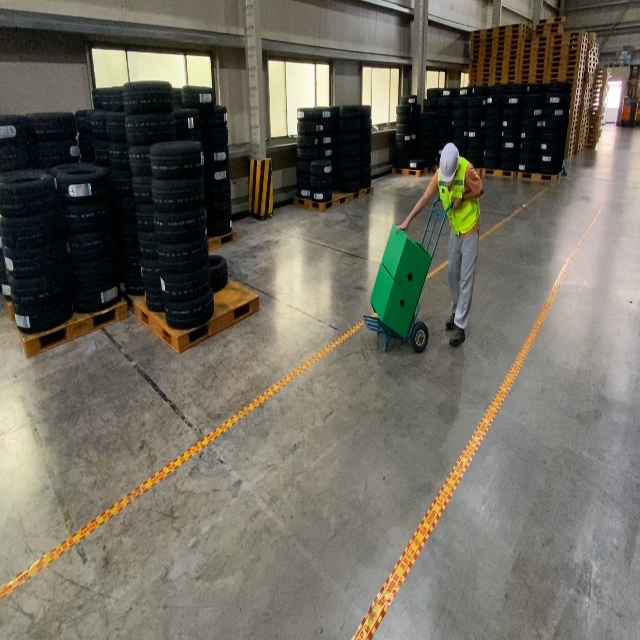Box: (381, 223, 431, 299), (370, 263, 419, 340)
Worker: (396, 142, 483, 347)
